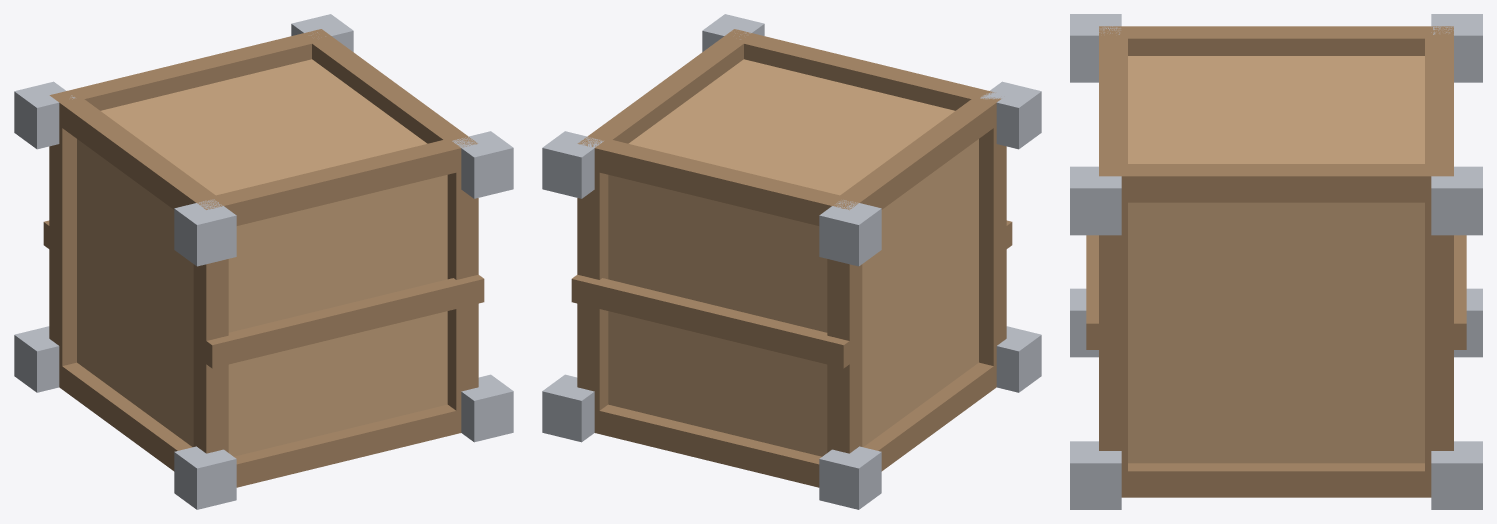
Rendered from kit__crate.fbx.
3 views of the same model, side by side, from view 1: azimuth 30°, elevation 25°; view 2: azimuth 150°, elevation 25°; view 3: azimuth 270°, elevation 25° (orthographic). The views are drawn at different scales.
Visible parts, largest first — view 1: kit__crate; view 2: kit__crate; view 3: kit__crate.
Part boxes in pixels (x1=…): kit__crate: x1=14, y1=14, x2=513, y2=509; kit__crate: x1=542, y1=14, x2=1041, y2=509; kit__crate: x1=1070, y1=14, x2=1482, y2=509.
Bounding box in the file's own units: 1.28 × 1.1 × 1.28.
